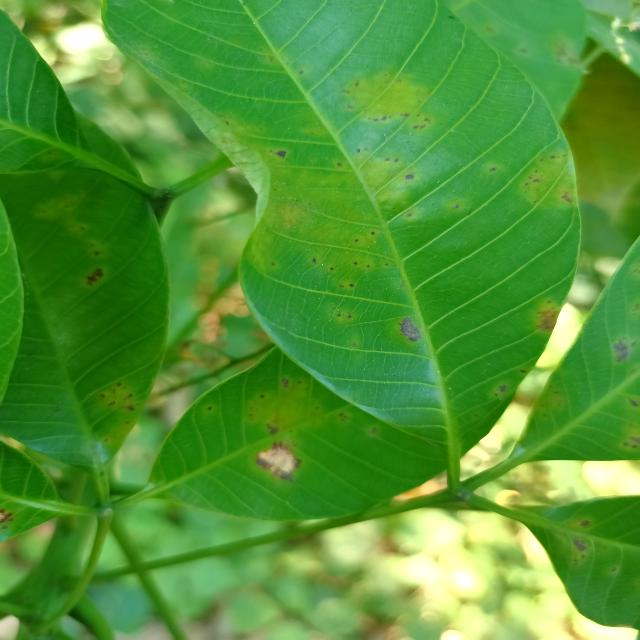Colletotrichum: (276, 150, 286, 158), (405, 174, 415, 180)
Leaf-Blight: (260, 448, 298, 473)
